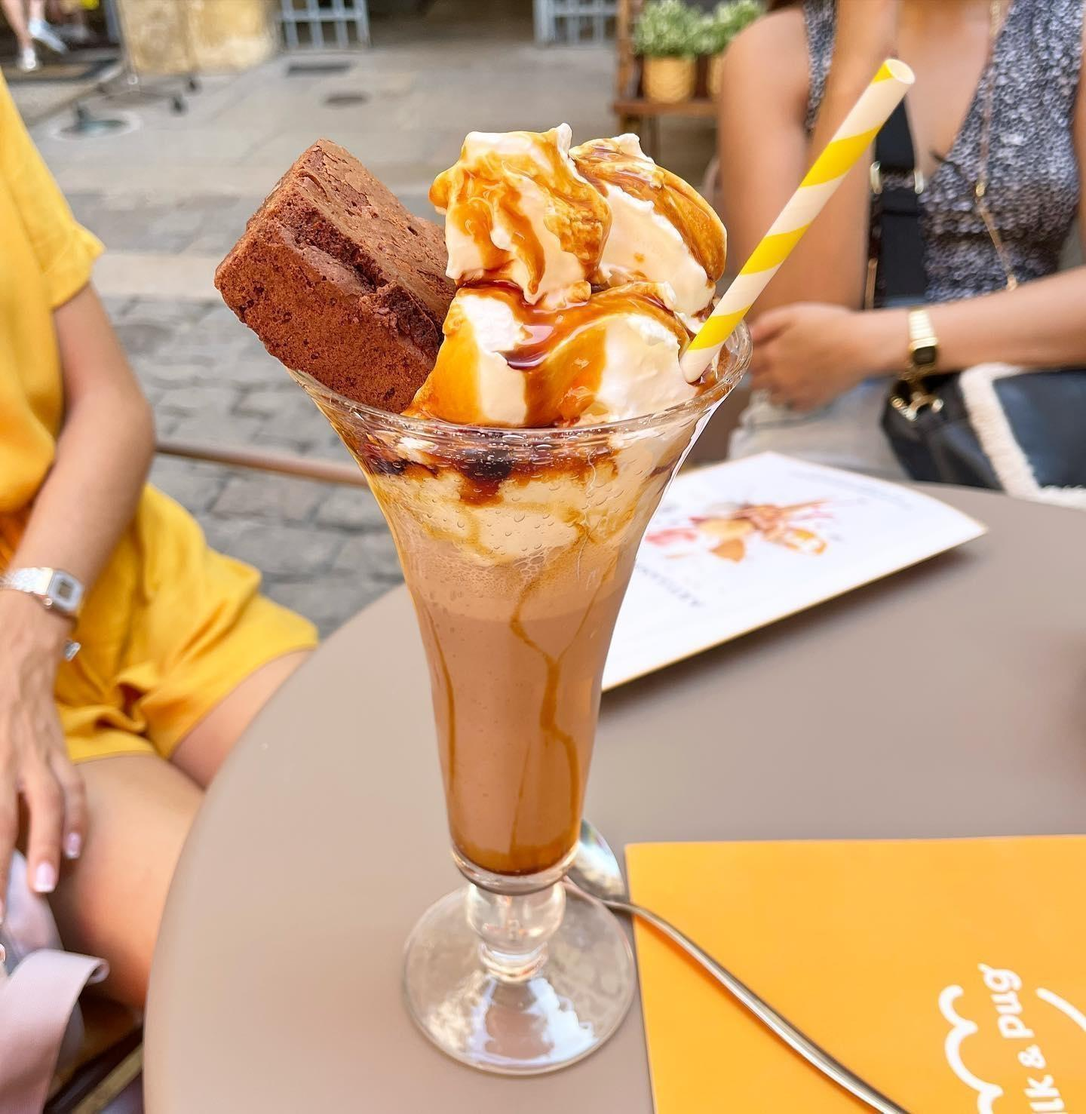glass-wine: (298, 250, 774, 1086)
